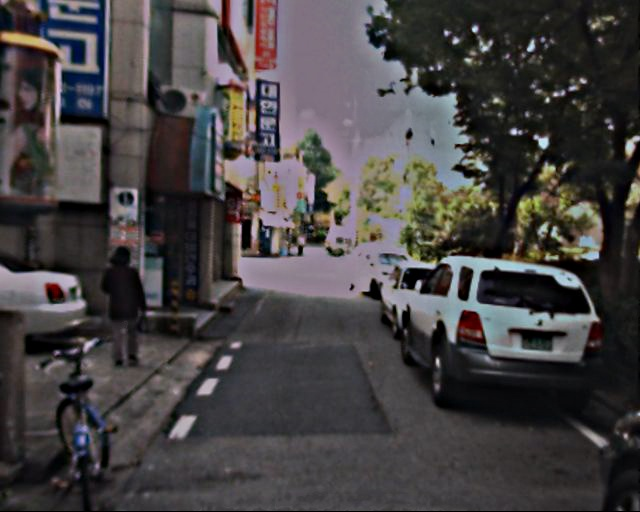person: (100, 232, 153, 367)
